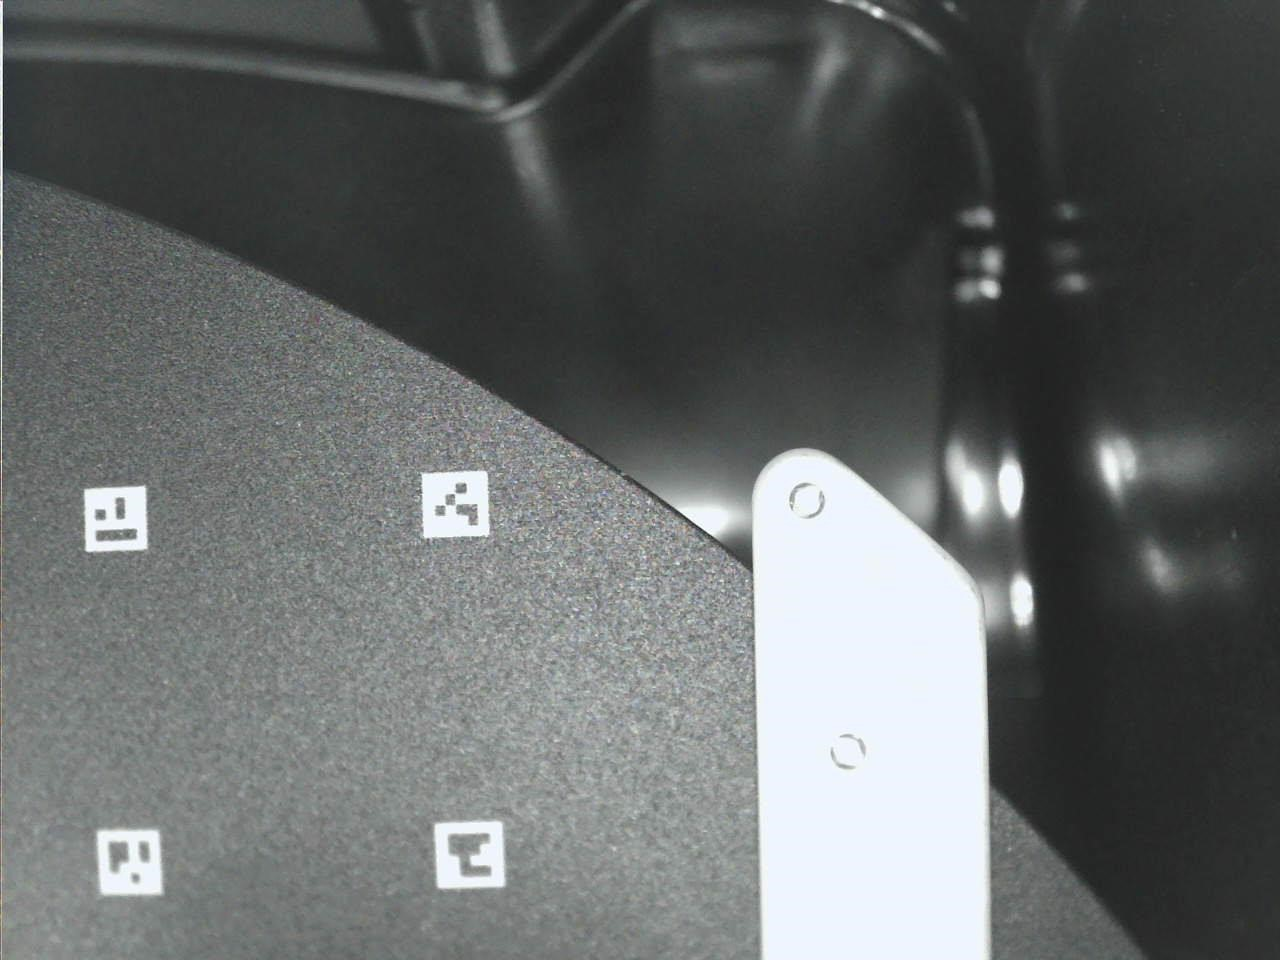forktip: (733, 430, 1014, 960)
